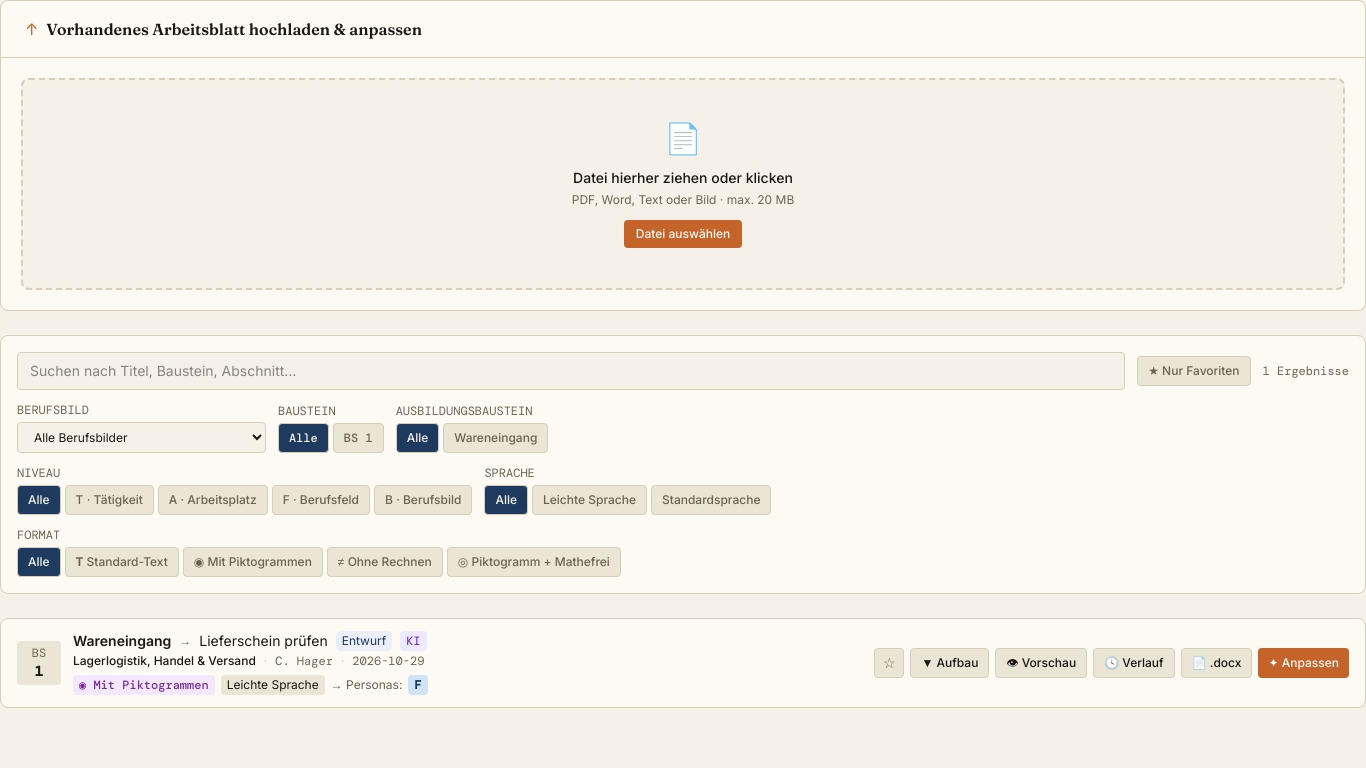
Arbeitsblätter aus dem Backend › setzt den Favoriten zurück, wenn das Speichern scheitert
Click the button named "Als Favorit markieren".
click(889, 663)  # box [874,648,904,678]
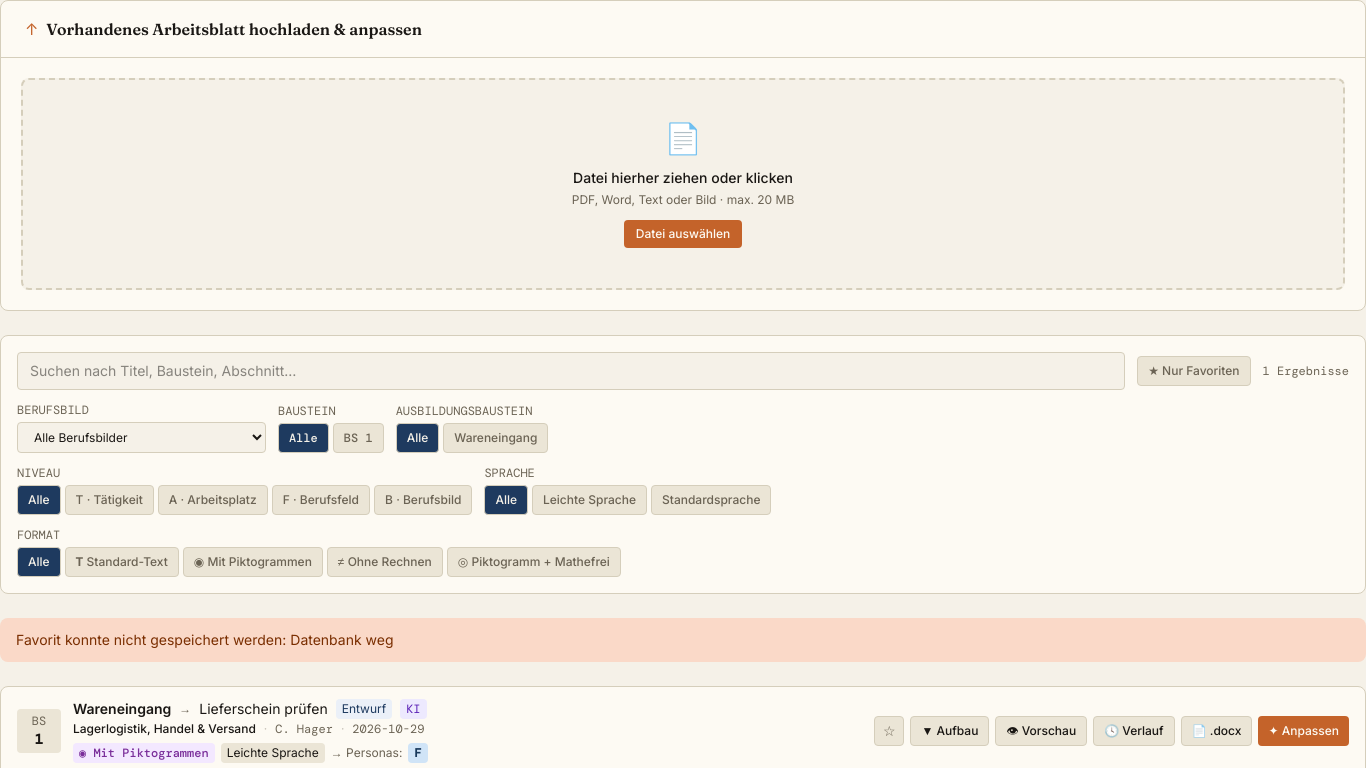
Expected: the message reads "Favorit konnte nicht gespeichert werden: Datenbank weg", [16,631,394,648]
